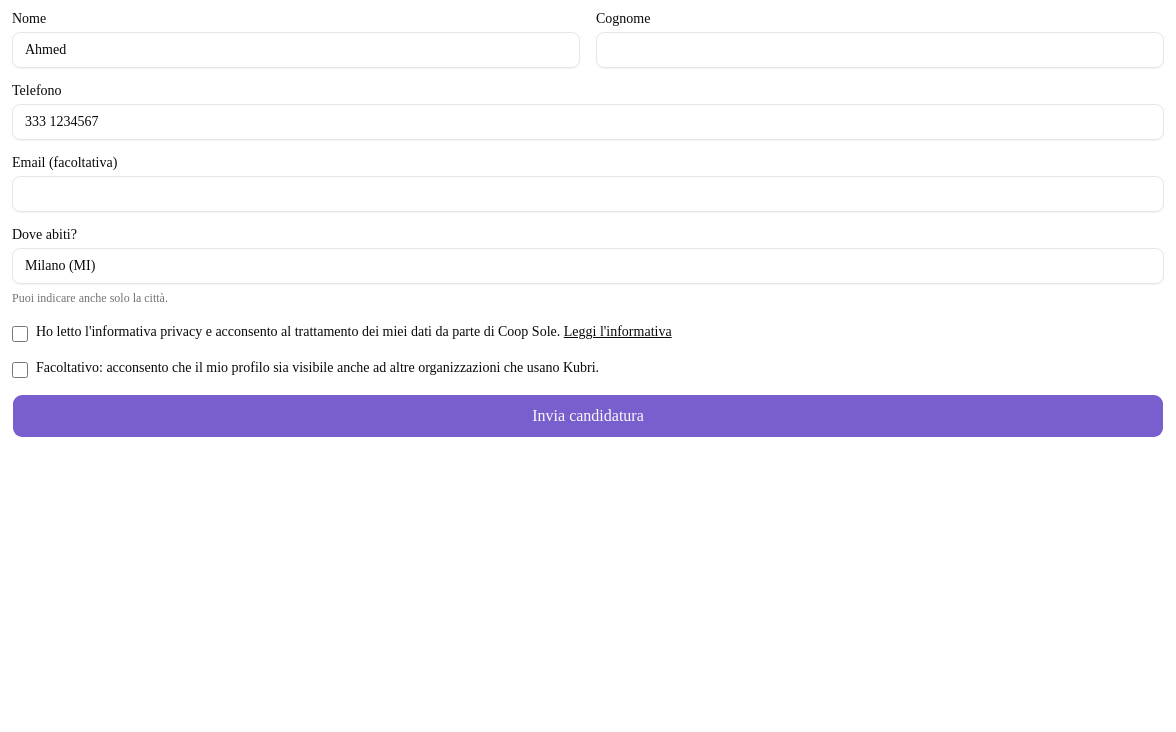
Test: ContactForm › rejects an invalid email
This screenshot has width=1176, height=732.
Type "nope" into the field labelled "Email (facoltativa)". click: (588, 194)
box: [12, 176, 1164, 212]
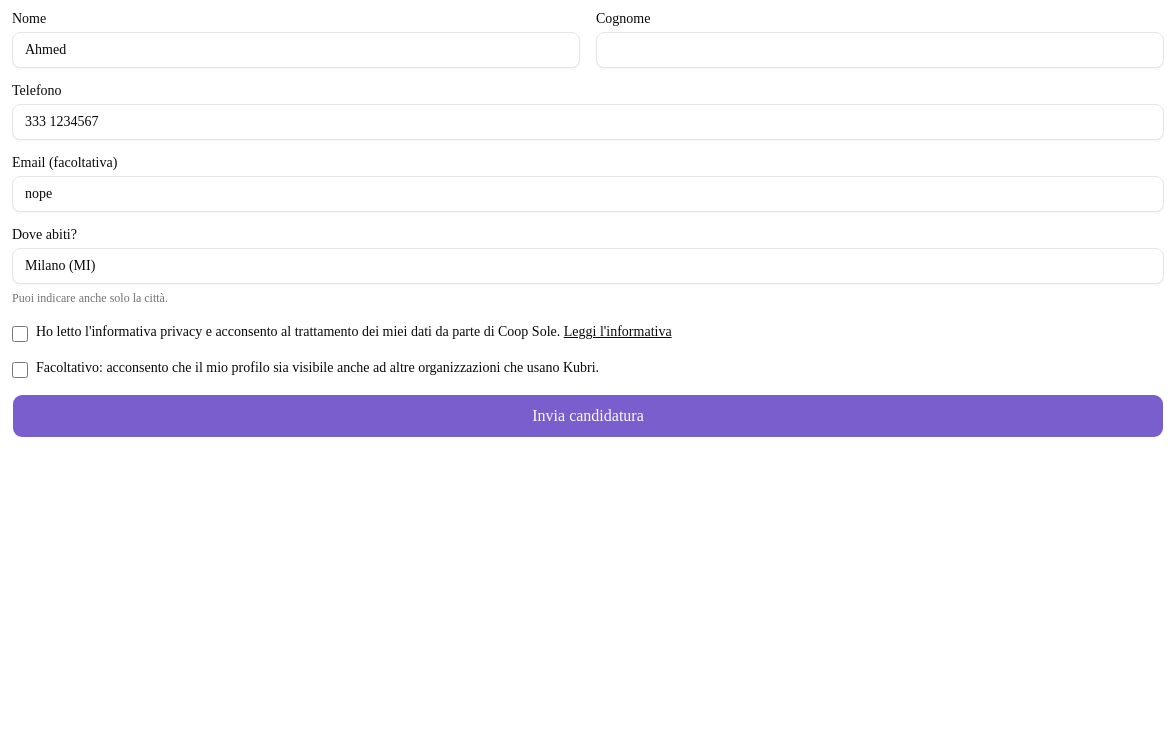
Click the button "Invia candidatura". click: (588, 416)
box: [12, 394, 1164, 438]
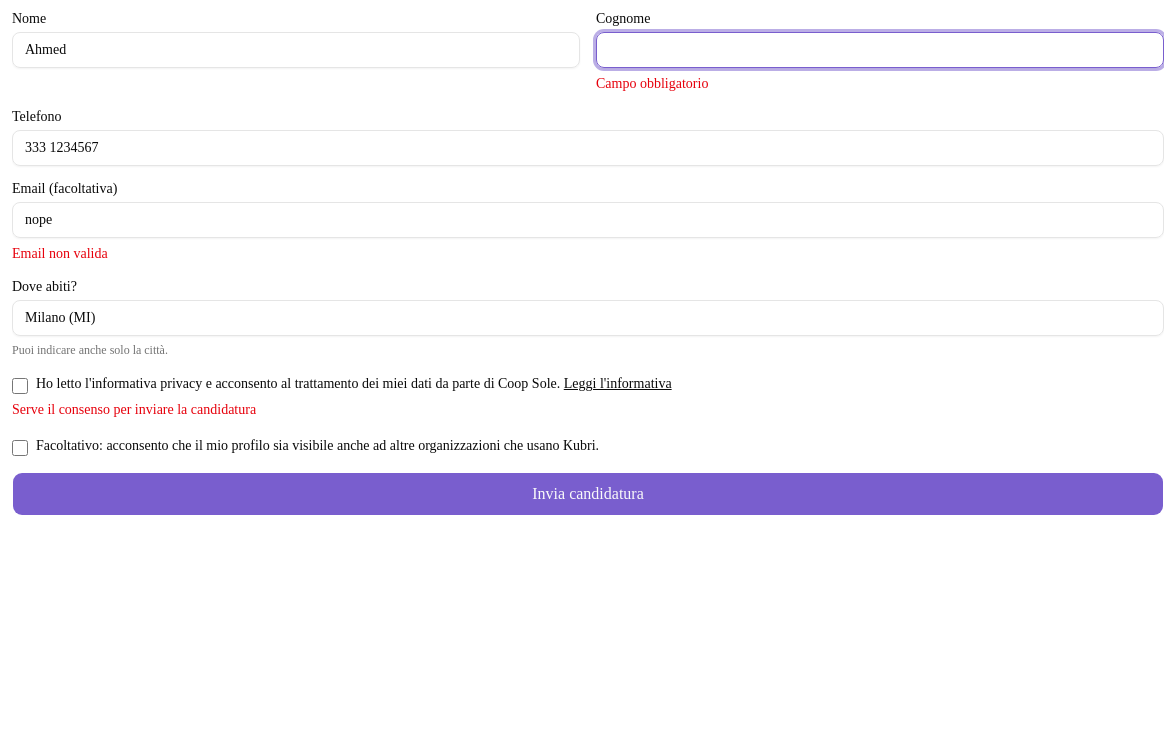
Expected: the text "Email non valida" is shown, [12, 246, 108, 261]
